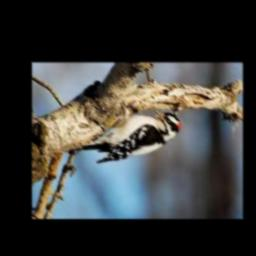Woodpecker: (68, 108, 180, 163)
